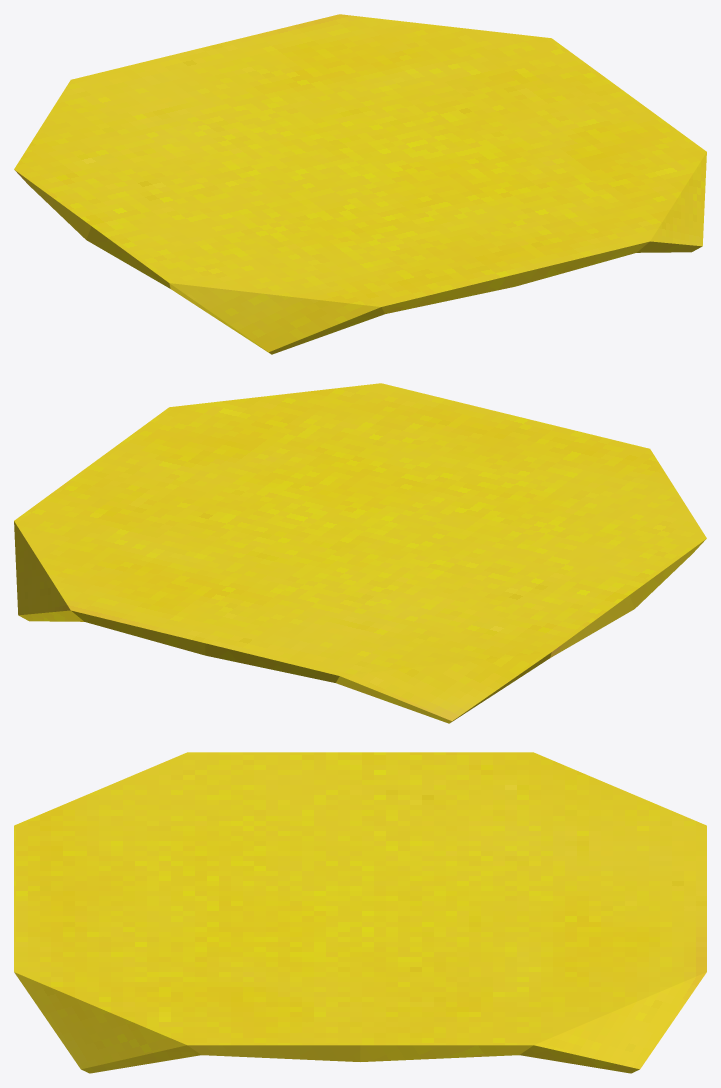
The model's file is cheese.glb.
The picture shows the model from 3 angles, top to bottom: view 1: azimuth 30°, elevation 25°; view 2: azimuth 150°, elevation 25°; view 3: azimuth 270°, elevation 25°; orthographic projection. The views are drawn at different scales.
Visible parts, largest first — view 1: Plane.001; view 2: Plane.001; view 3: Plane.001.
Boxes of the visible parts, box(x1,y1,x2,y2) form: Plane.001: box(14, 14, 706, 354); Plane.001: box(14, 383, 706, 723); Plane.001: box(14, 752, 706, 1073).
Bounding box in the file's own units: 19.45 × 1.83 × 19.07.
Materials: 1 (1 with a texture image).
